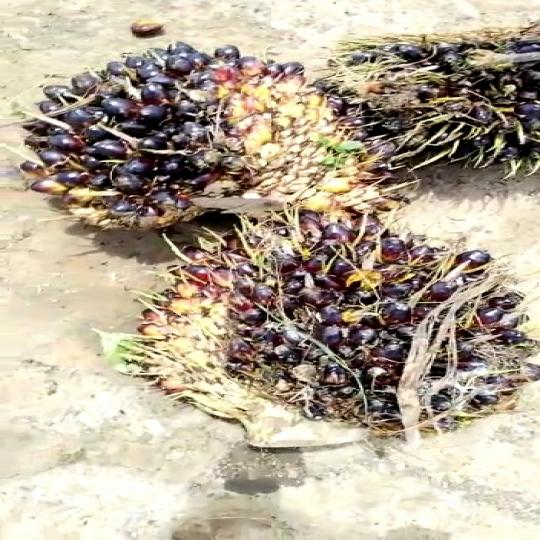mentah: (10, 39, 367, 230), (216, 220, 520, 442)
